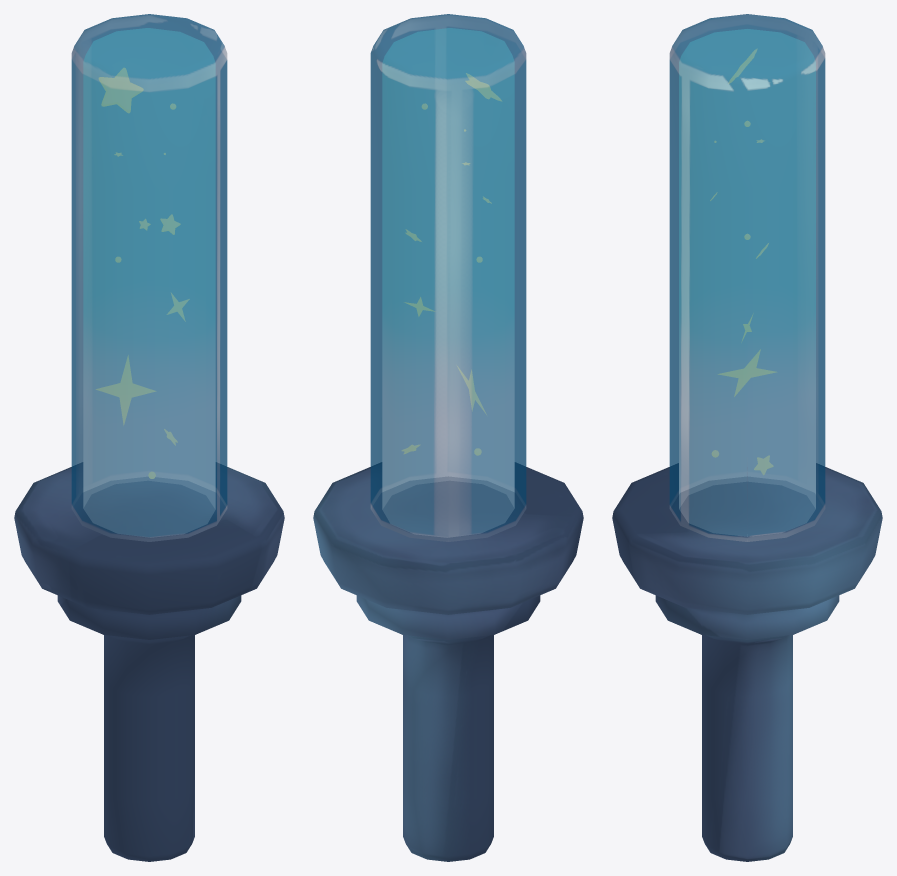
Rendered from glowStick.gltf.
The picture shows the model from 3 angles, left to right: view 1: azimuth 30°, elevation 25°; view 2: azimuth 150°, elevation 25°; view 3: azimuth 270°, elevation 25°; orthographic projection.
Parts seen in each view (by area): view 1: Cheer stick; view 2: Cheer stick; view 3: Cheer stick.
Part boxes in pixels (x1,y1,x2,y2): Cheer stick: [14, 14, 284, 861]; Cheer stick: [313, 14, 583, 861]; Cheer stick: [612, 14, 882, 861].
Size of the model in its own units: 0.0689 by 0.2256 by 0.0689.
1 material, 1 textured.
